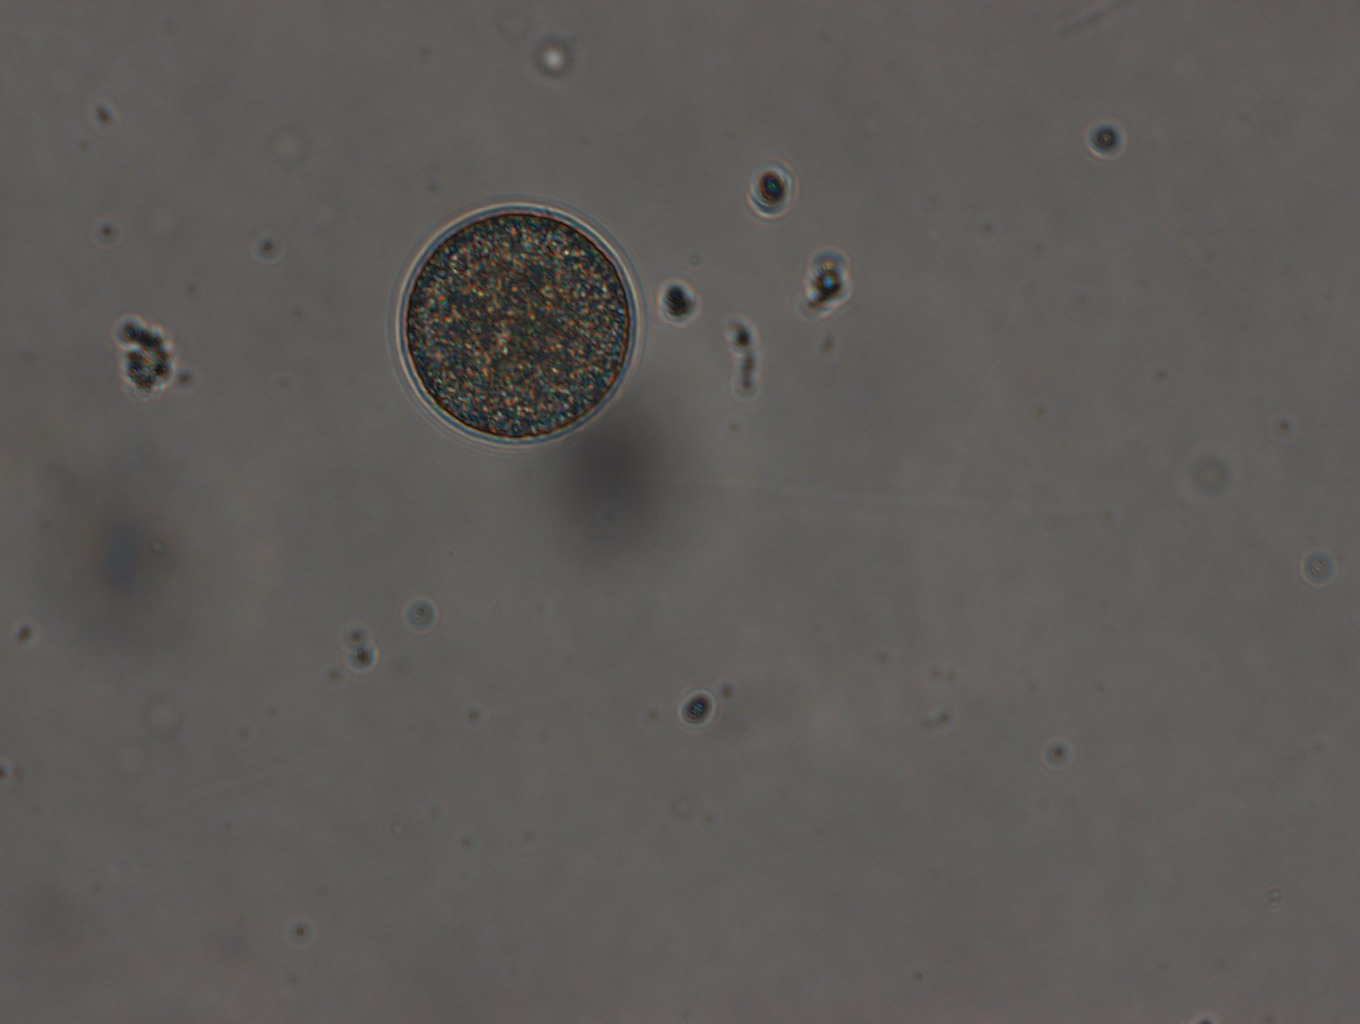coscinodiscus: (396, 201, 638, 447)
